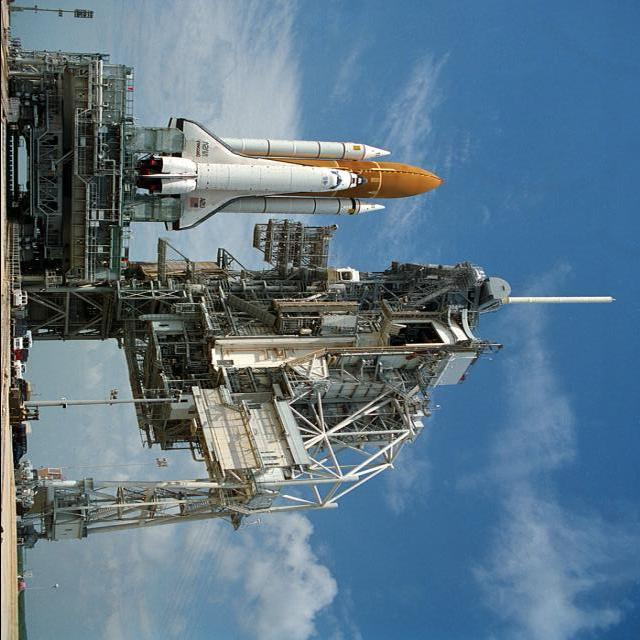missile: (156, 158, 366, 195), (211, 136, 409, 168), (216, 193, 388, 221), (500, 293, 628, 306)
